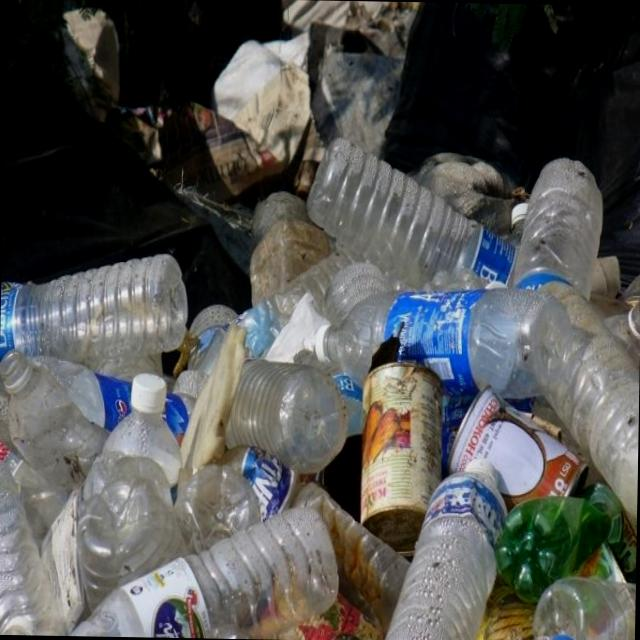garbage: (0, 138, 638, 640)
